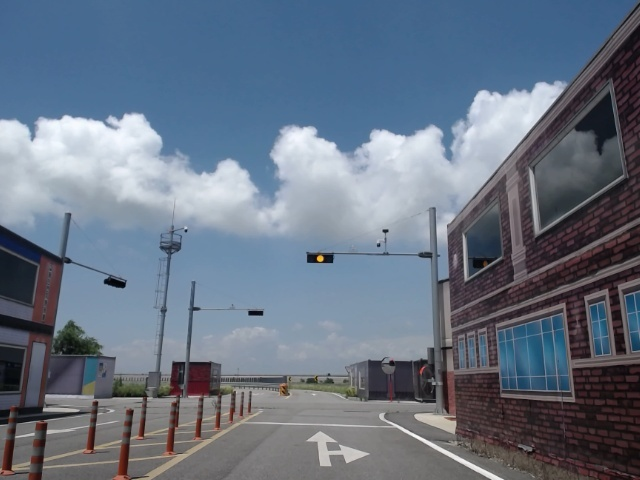orange_3: (306, 253, 334, 263)
